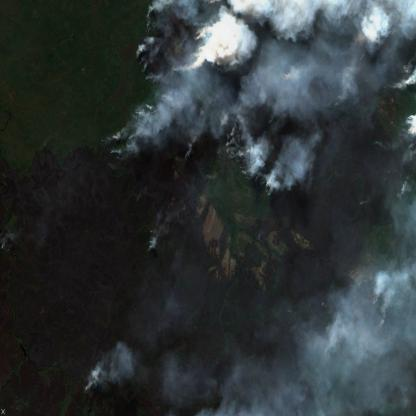fire: (224, 127, 278, 196), (133, 34, 159, 86), (103, 123, 125, 164), (129, 100, 159, 126), (142, 2, 158, 32), (82, 373, 99, 399), (182, 143, 196, 167), (192, 20, 202, 52), (170, 60, 186, 79)
